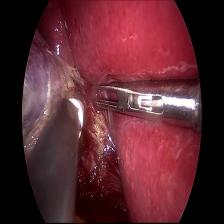Grasper: (87, 73, 204, 135)
Hook: (65, 92, 87, 133)
